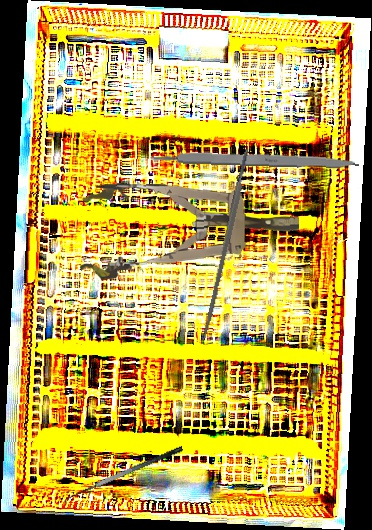Scalpel Handle: (199, 147, 253, 343), (149, 148, 360, 170)
Spatula Surgical: (61, 445, 188, 510)
Speculum: (78, 177, 301, 281)
